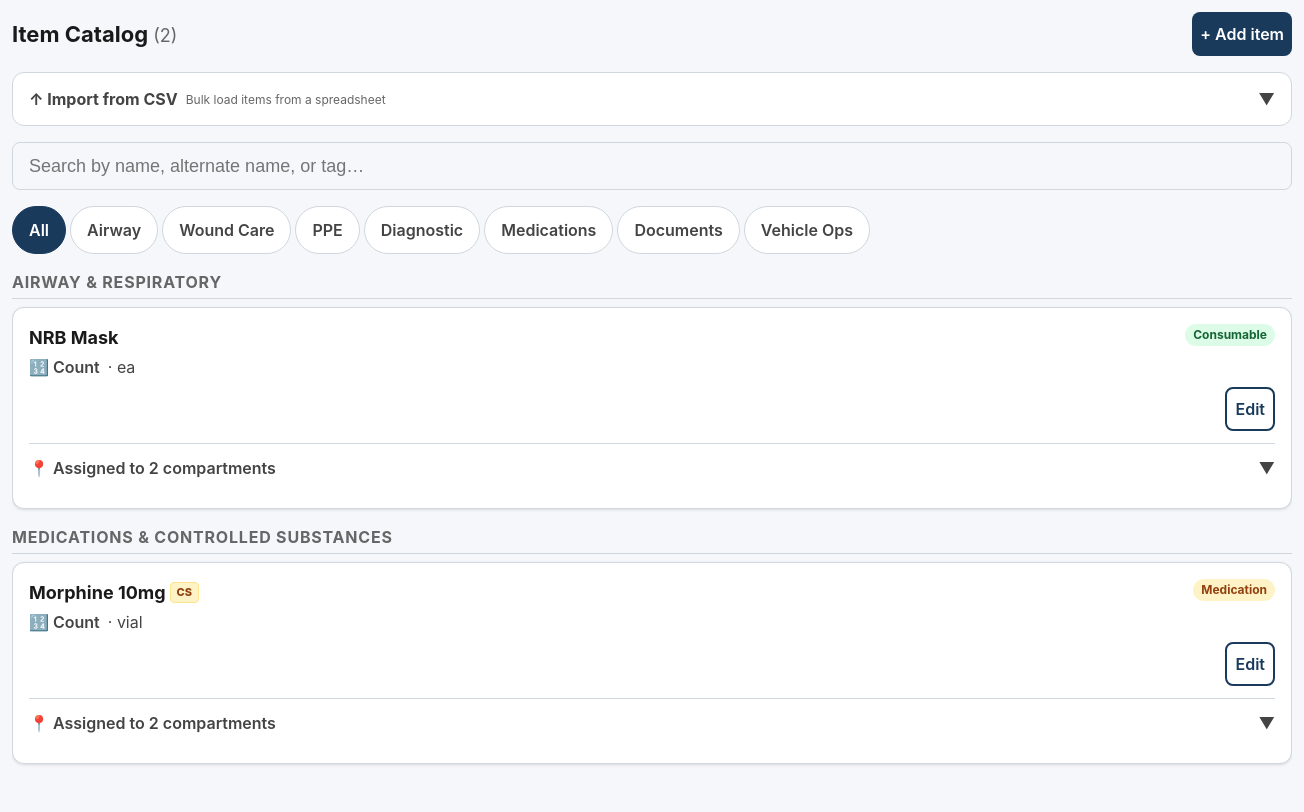
Test: ItemCatalog — cabinet group chip filters › clicking All restores all items
Click the button "Airway" at (114, 230), box [70, 206, 158, 254]
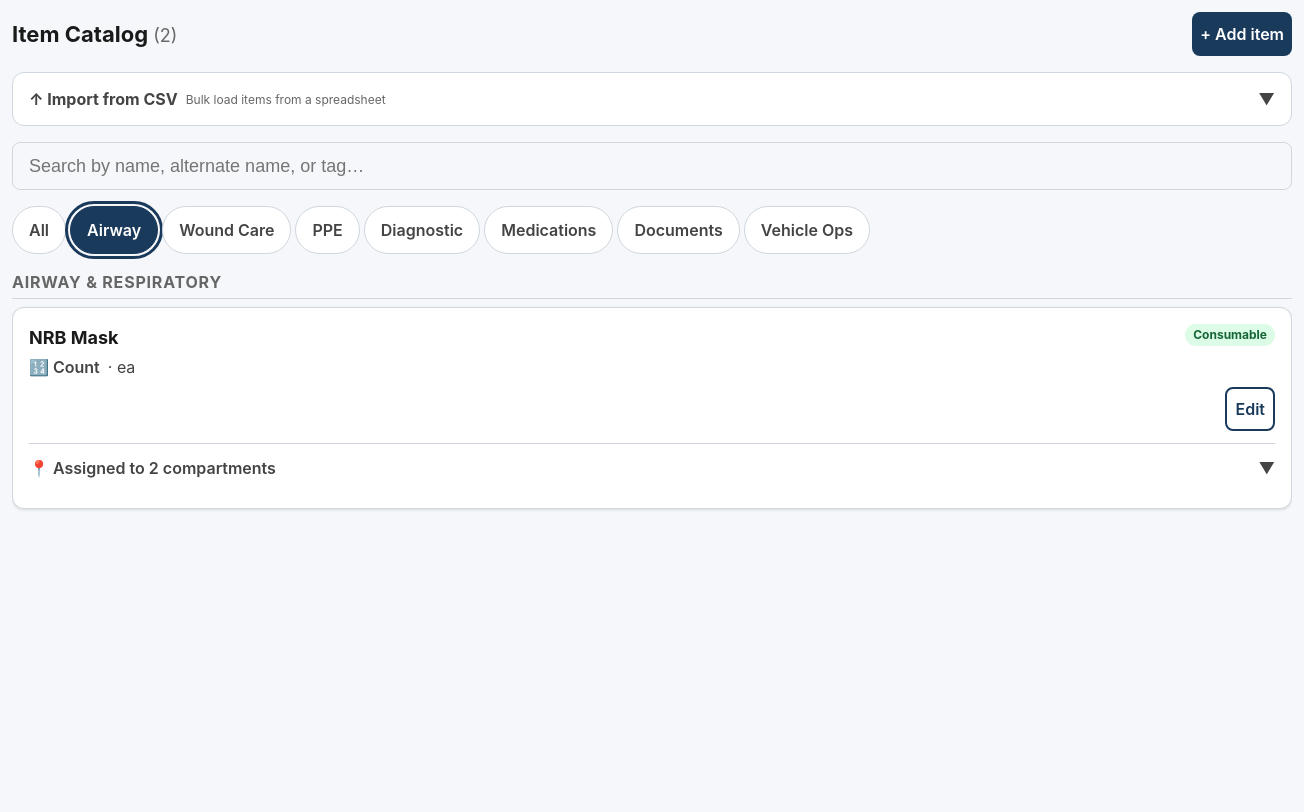
Click the button "All" at (39, 230), box [12, 206, 66, 254]
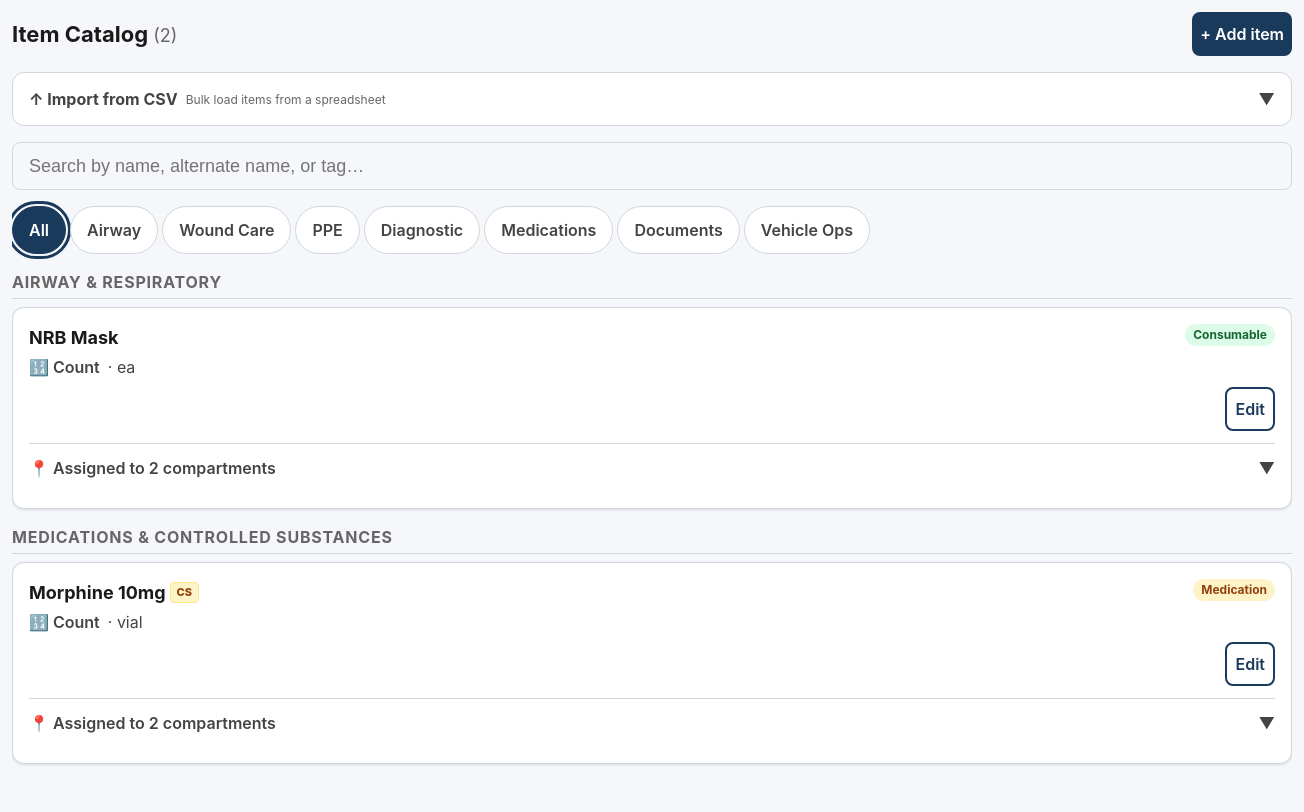
Expected: the text "NRB Mask" is shown, [29, 324, 118, 351]
Expected: the text "Morphine 10mg" is shown, [29, 582, 166, 603]
